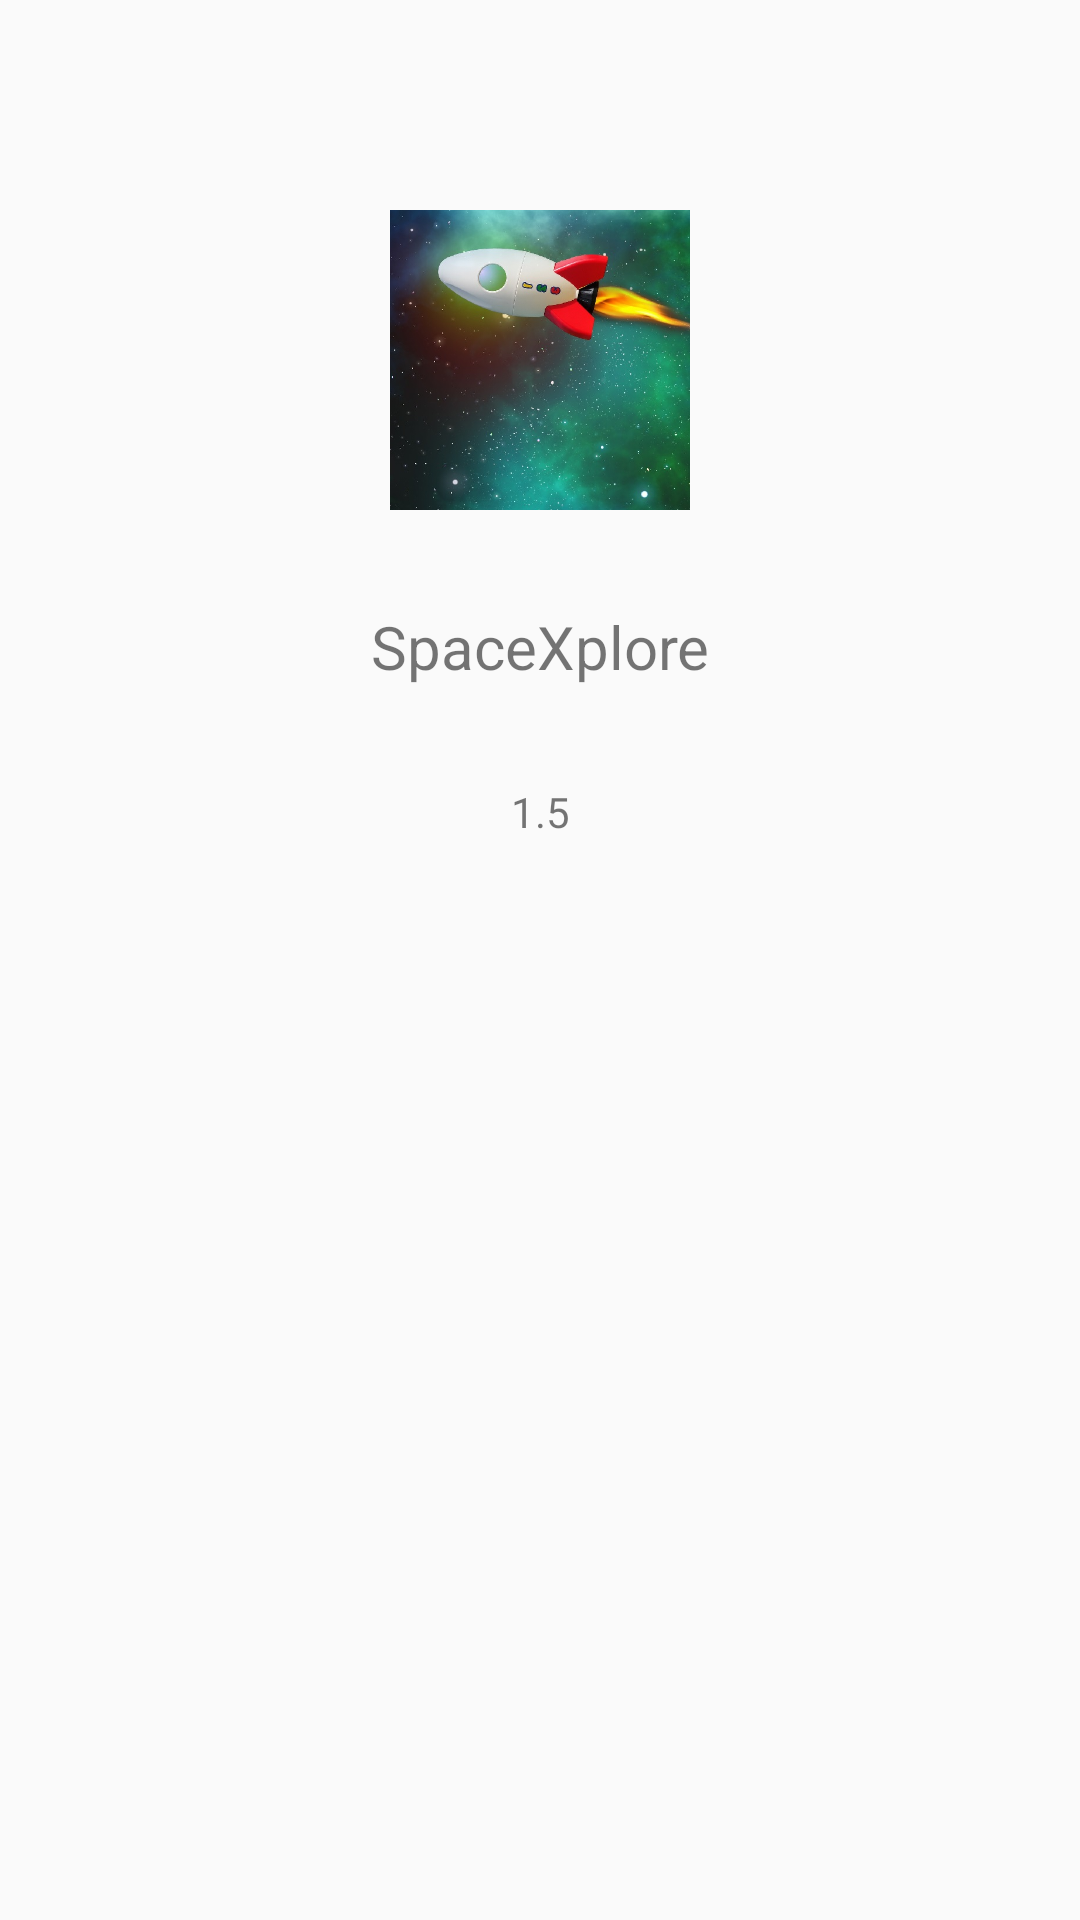

Screen size 1080 × 1920. Icon name, then its center in pixels as (x=x, y=y):
rocket: (x=540, y=360)
